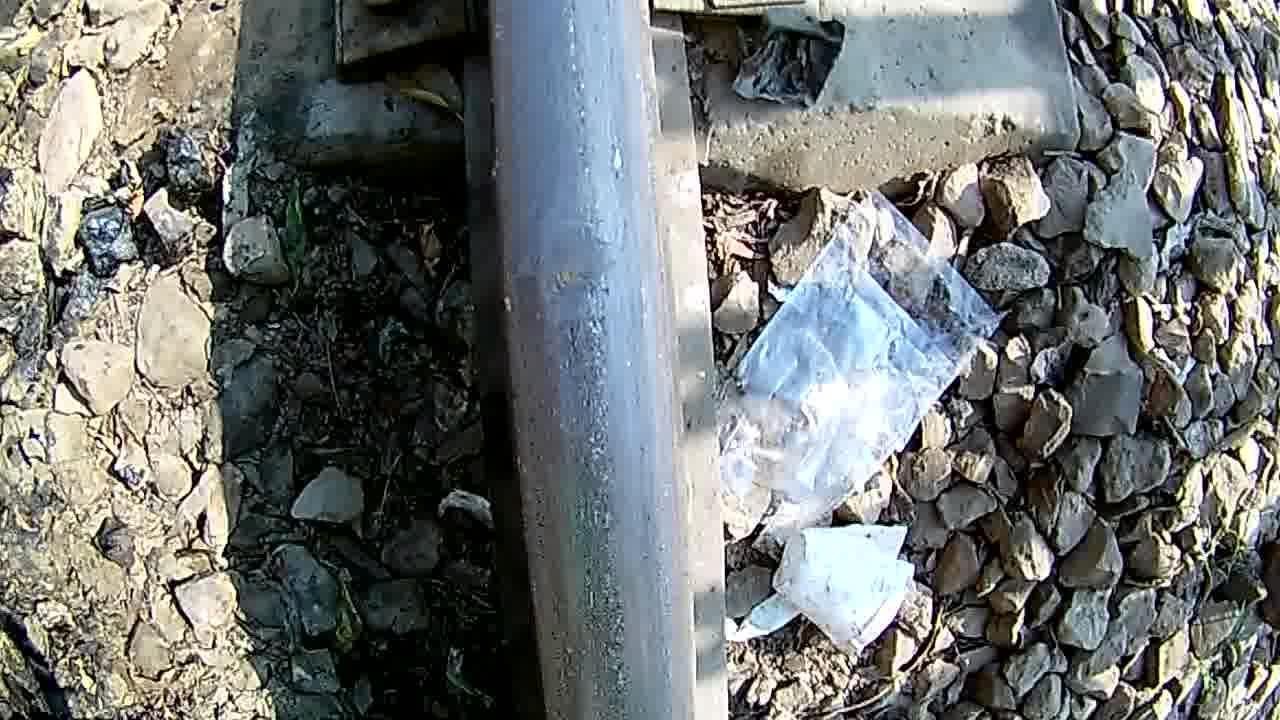crack: (508, 114, 664, 436)
